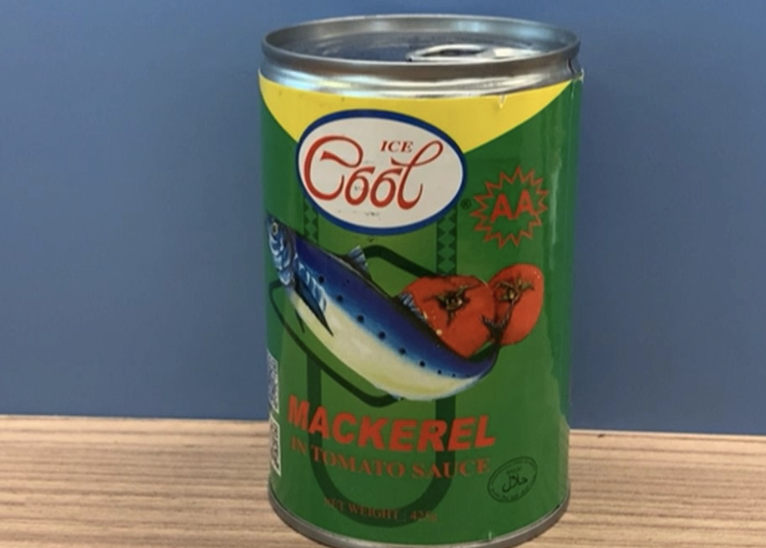sardines_450g: (273, 93, 559, 505)
